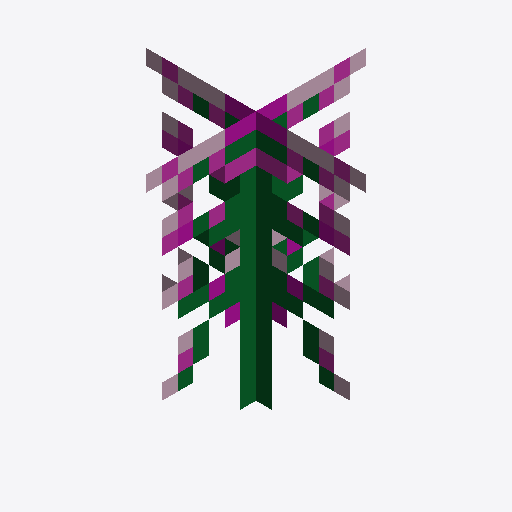
Isometric view (azimuth 45°, elevation 35.3°) of a Minecraft model made of 66 cuboids, textured from the same repository.
Visible parts, largest first — BottomStalk (×2), element 29, element 60, element 6, element 31, element 57, element 62, element 2, element 59, element 30, element 63, element 3 (+27 smaller).
Part boxes in pixels (bbox=[...]): BottomStalk (×2): bbox=[240, 102, 271, 409]; element 29: bbox=[209, 193, 239, 246]; element 60: bbox=[272, 193, 302, 246]; element 6: bbox=[178, 320, 208, 372]; element 31: bbox=[162, 202, 192, 255]; element 57: bbox=[303, 320, 333, 372]; element 62: bbox=[319, 202, 349, 255]; element 2: bbox=[225, 247, 239, 327]; element 59: bbox=[272, 247, 286, 327]; element 30: bbox=[319, 112, 349, 155]; element 63: bbox=[162, 112, 192, 155]; element 3: bbox=[225, 121, 239, 182].
Bounding box in the file's own units: 14 × 16 × 14.